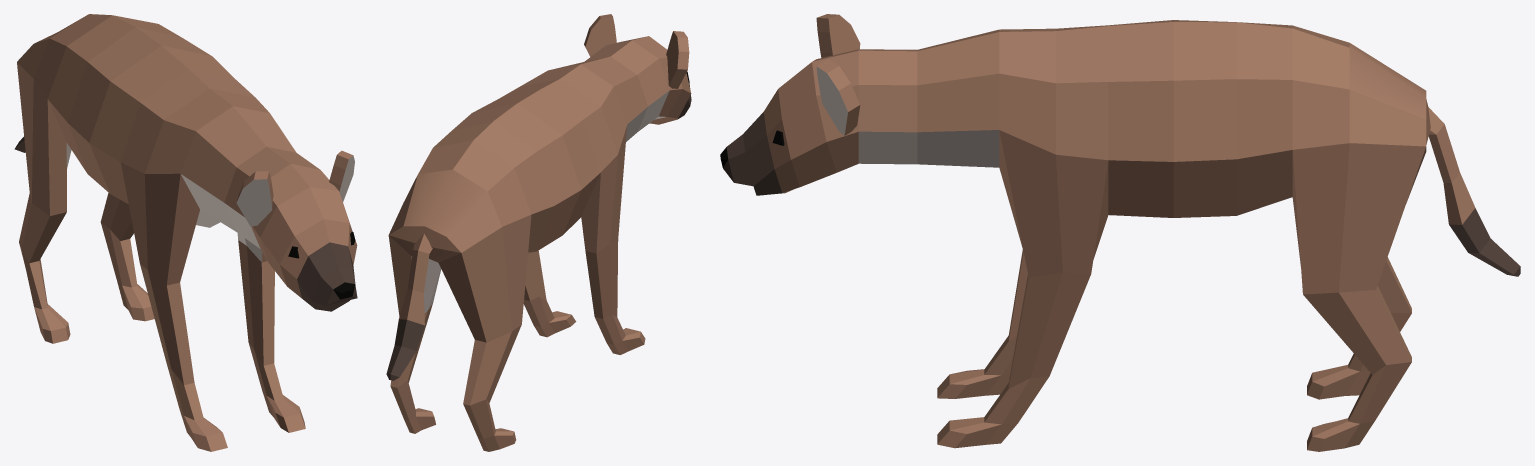
3 renders of one model, left to right at view 1: azimuth 30°, elevation 25°; view 2: azimuth 150°, elevation 25°; view 3: azimuth 270°, elevation 25°, orthographic. The views are drawn at different scales.
Visible parts, largest first — view 1: Geo_Hyena; view 2: Geo_Hyena; view 3: Geo_Hyena.
Part boxes in pixels (left/top/right/bottom): Geo_Hyena: left=14, top=14, right=357, bottom=451; Geo_Hyena: left=386, top=14, right=691, bottom=451; Geo_Hyena: left=720, top=14, right=1520, bottom=451.
Bounding box in the file's own units: 44.56 × 95.85 × 175.
Materials: 1 (1 with a texture image).
